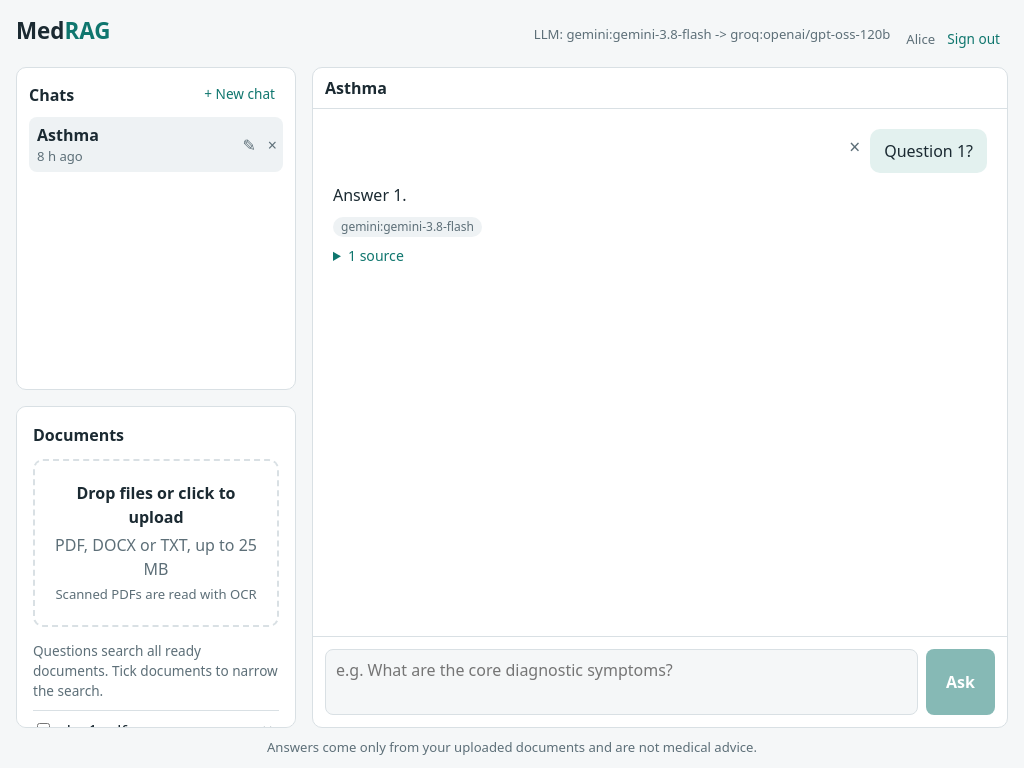
it: chats › deletes the open chat and starts a new one
Click the button named "Delete chat: Asthma" at (272, 145), box [262,135,283,155]
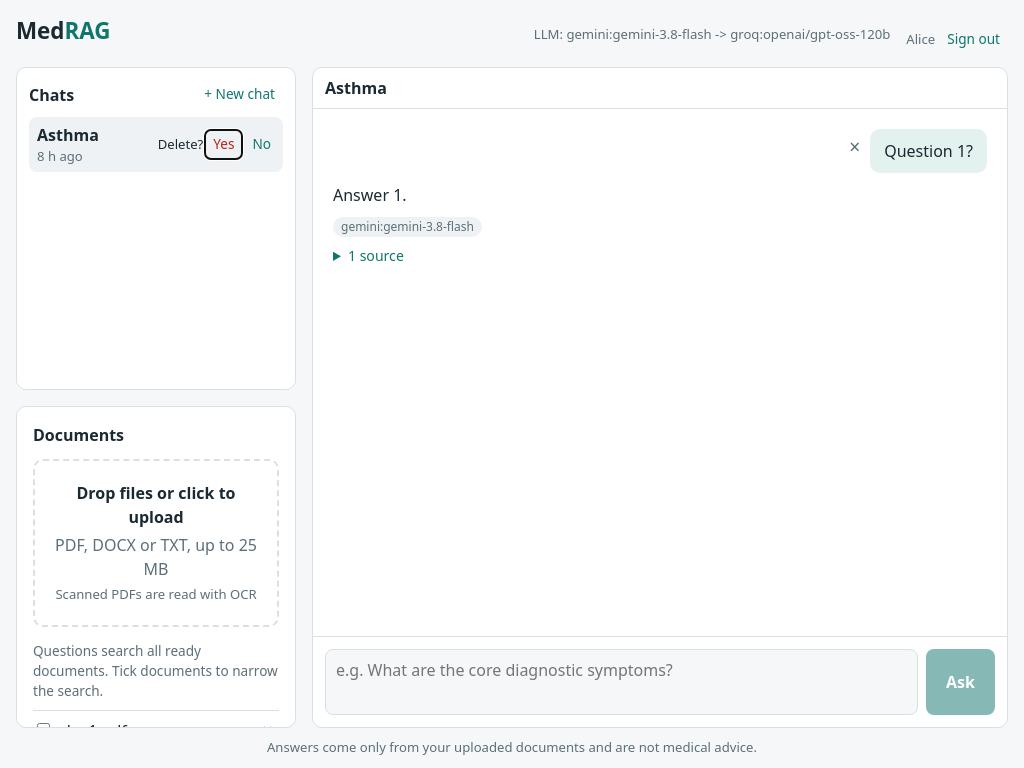
Click the button "Yes" at (224, 145), box [205,130,242,159]
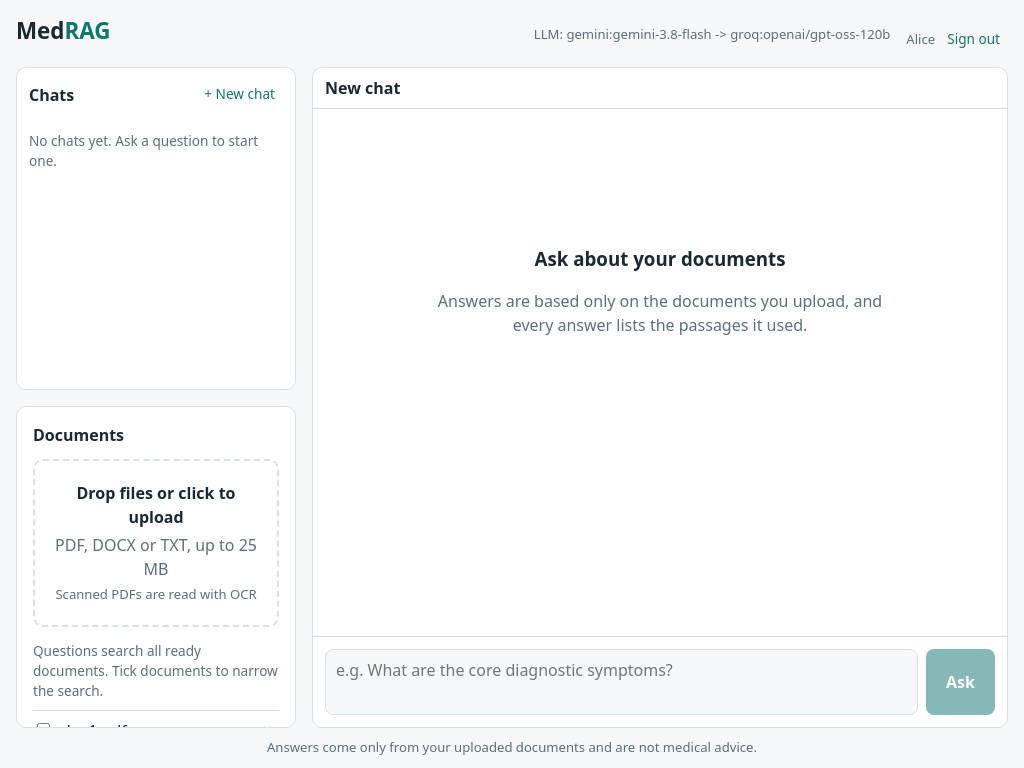
Result: the heading "New chat" is shown at [325,76,400,100]
Result: the text "No chats yet. Ask a question to start one." is shown at [29,131,283,172]
